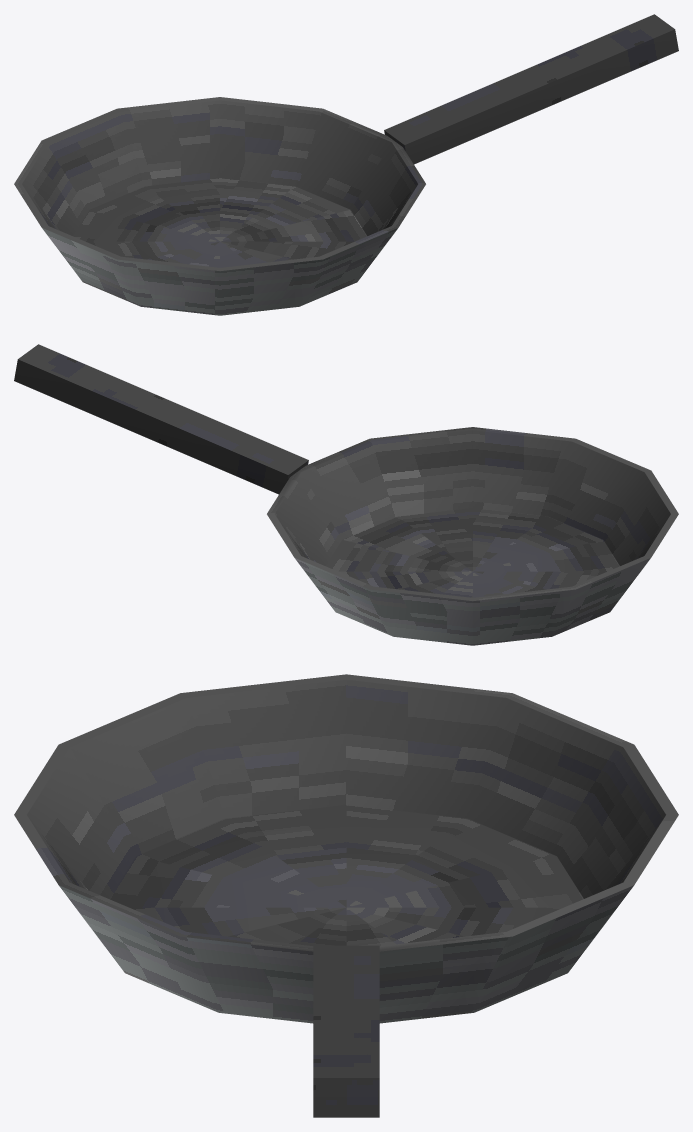
File: frying_pan_steel.glb
3 renders of one model, top to bottom at view 1: azimuth 30°, elevation 25°; view 2: azimuth 150°, elevation 25°; view 3: azimuth 270°, elevation 25°, orthographic. The views are drawn at different scales.
Visible parts, largest first — view 1: frying_pan_steel; view 2: frying_pan_steel; view 3: frying_pan_steel.
Boxes of the visible parts, x1,y1,x2,y2 form: frying_pan_steel: [14, 14, 678, 315]; frying_pan_steel: [14, 344, 678, 645]; frying_pan_steel: [14, 674, 678, 1117].
Bounding box in the file's own units: 0.4566 × 0.0825 × 0.26.
1 material, 1 textured.
